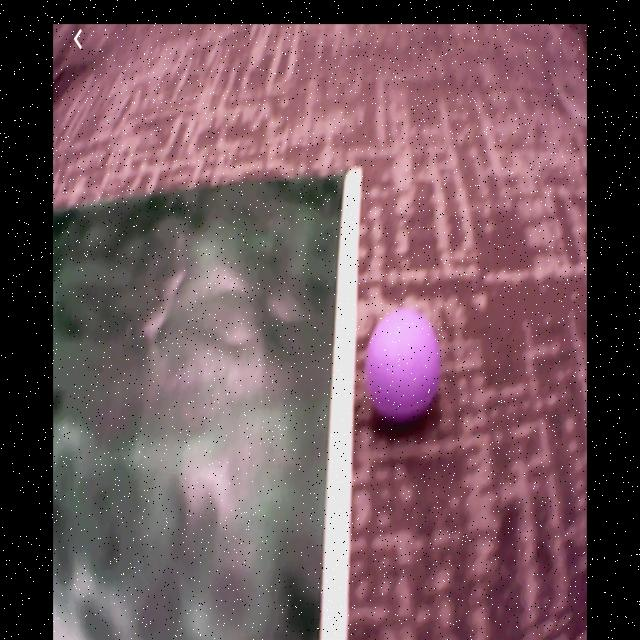ball: (366, 308, 439, 419)
